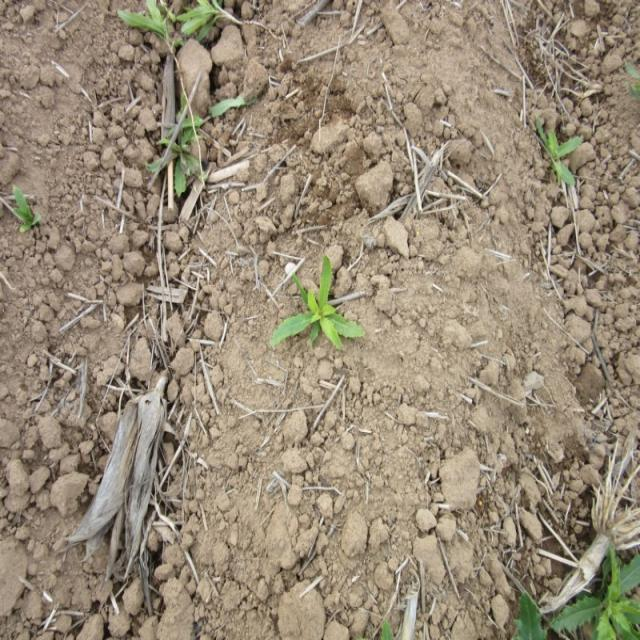cs: (271, 254, 365, 369)
